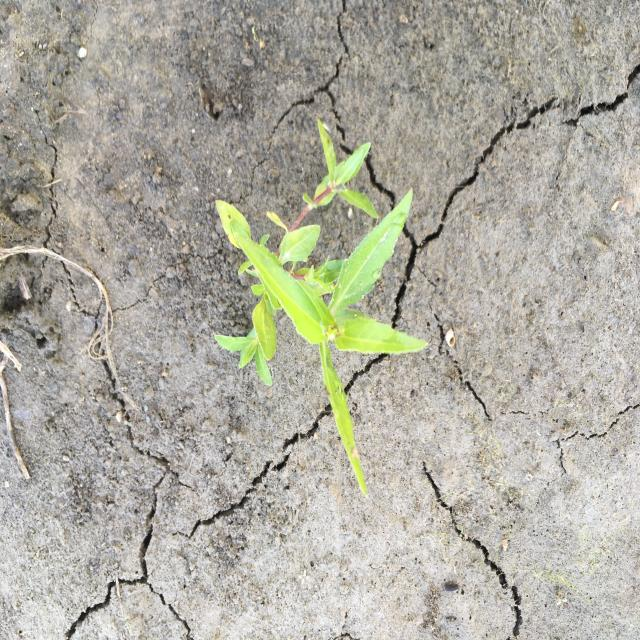Eclipta: (213, 117, 430, 501)
